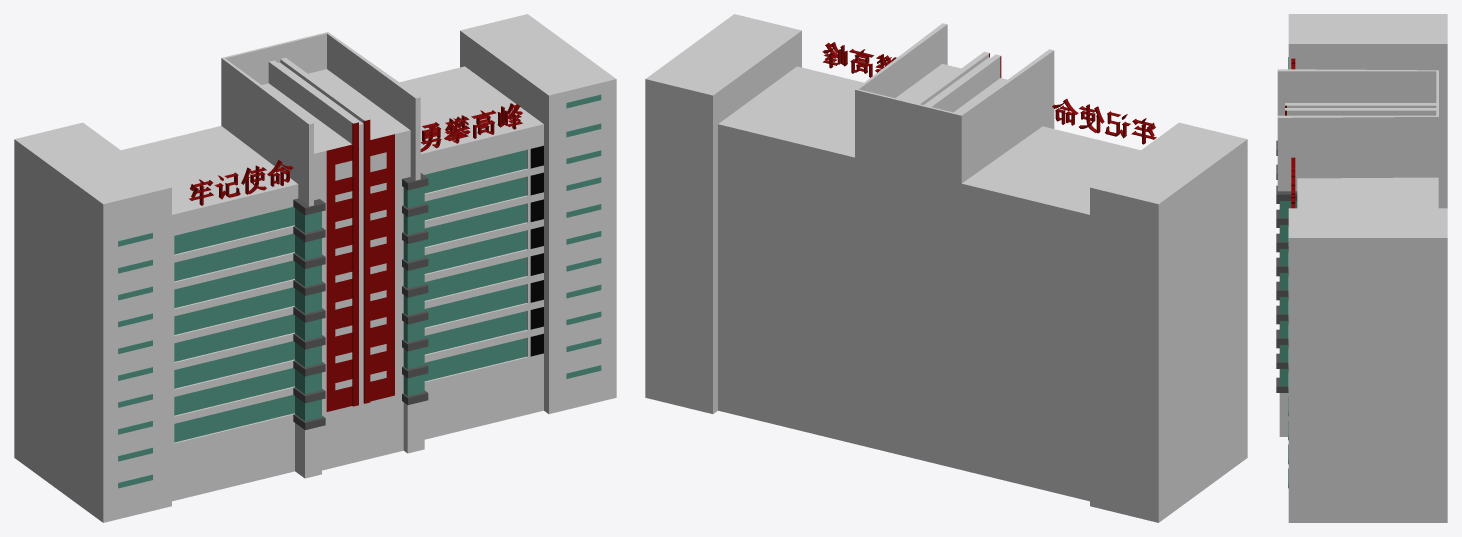
Rendered from ljsm.fbx.
3 views of the same model, side by side, from view 1: azimuth 30°, elevation 25°; view 2: azimuth 150°, elevation 25°; view 3: azimuth 270°, elevation 25° (orthographic). The views are drawn at different scales.
Parts seen in each view (by area): view 1: pCube1, pCube43, pCube2, pCube3, typeMesh1; view 2: pCube1, pCube43, typeMesh1; view 3: pCube1, pCube43, pCube3, typeMesh1.
Boxes of the visible parts, x1,y1,x2,y2 form: pCube1: [14, 14, 616, 522]; pCube43: [221, 32, 420, 206]; pCube2: [295, 208, 321, 478]; pCube3: [403, 186, 424, 453]; typeMesh1: [189, 103, 522, 205]; pCube1: [645, 14, 1247, 522]; pCube43: [855, 23, 1054, 197]; typeMesh1: [822, 42, 1156, 144]; pCube1: [1285, 14, 1447, 522]; pCube43: [1277, 69, 1438, 191]; pCube3: [1279, 201, 1297, 436]; typeMesh1: [1291, 58, 1295, 208].
Bounding box in the file's own units: 30 × 19.79 × 9.7.
